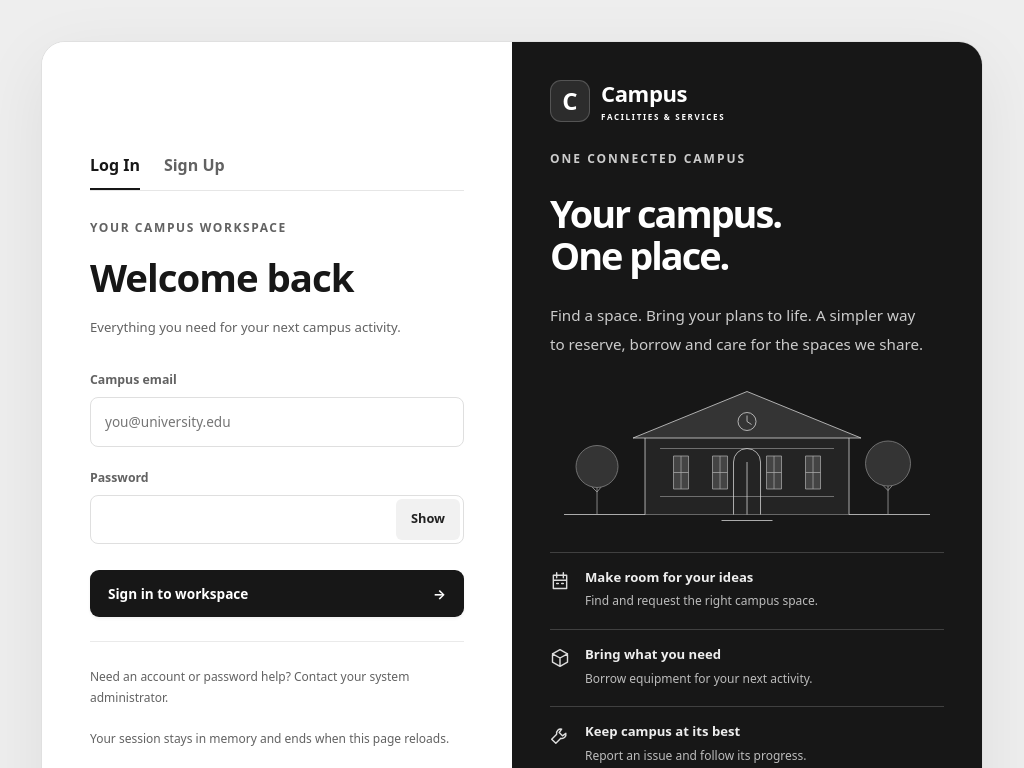
Test: reservation section switches to safe campus availability while private details stay in the list
Type "fixture@example.test" into the field labelled "Campus email" at (277, 422), box [90,397,464,446]
Type "synthetic-password" into the password field labelled "Password" at (277, 519), box [90,495,464,544]
Click the button "Sign in to workspace →" at (178, 593), box [90,570,464,617]
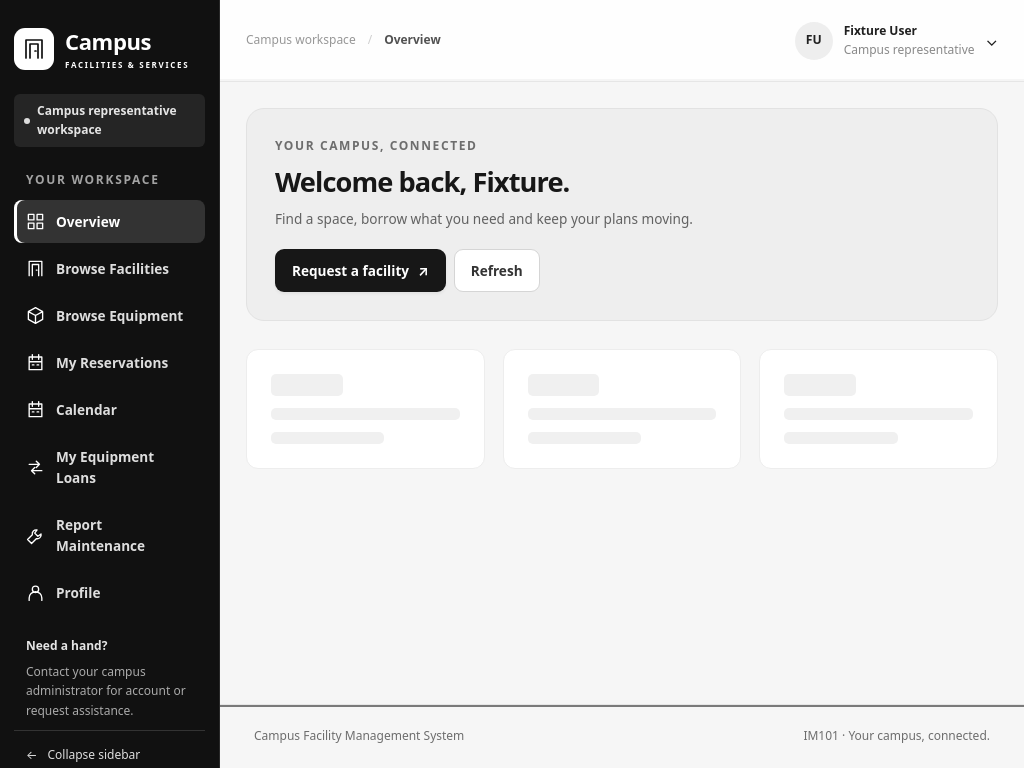
Expected: the heading "Welcome back, Fixture." is shown, [275,163,569,200]
Expected: the link "My Reservations" is shown
Click the link "My Reservations" at (97, 362), box [26,353,168,372]
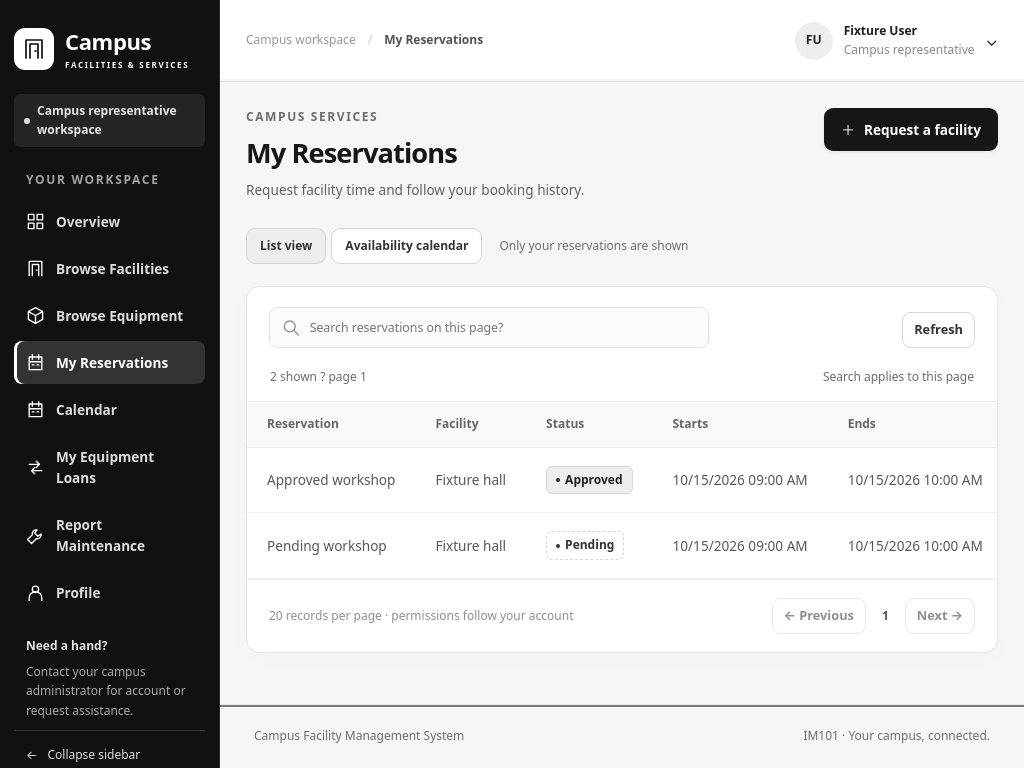
Click the button "Availability calendar" at (407, 246), box [331,228,482,264]
(page scrolled)
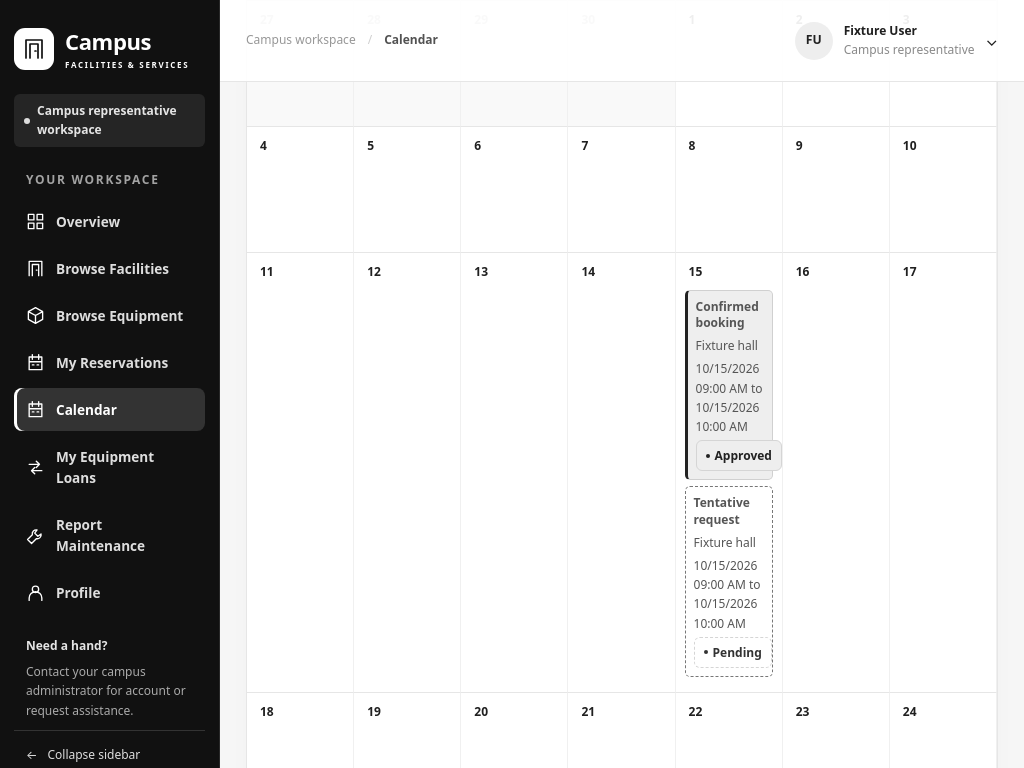
Expected: the text "Only your reservations are shown" is gone
Expected: the table is gone
Expected: the text "Pending workshop" is gone
Click the button that starts with "Confirmed booking" at (729, 385), box [685,290,773,480]
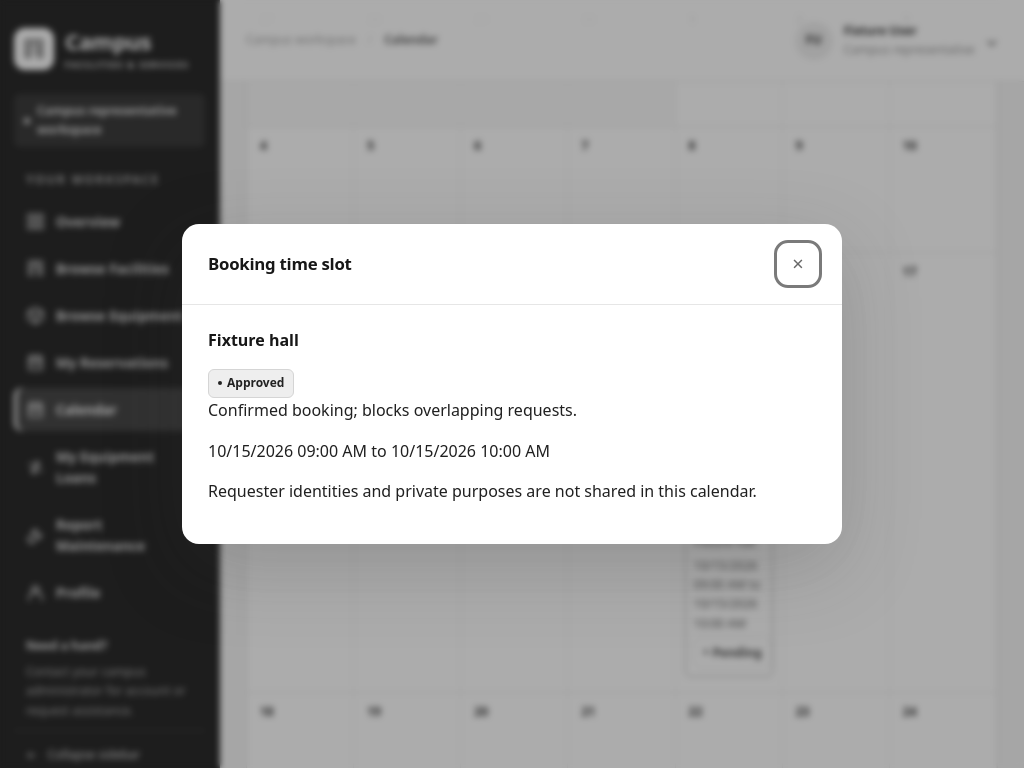
Expected: the text "Approved" is shown, [208,369,294,398]
Click the button named "Close dialog" at (798, 264), box [780,246,816,282]
(page scrolled)
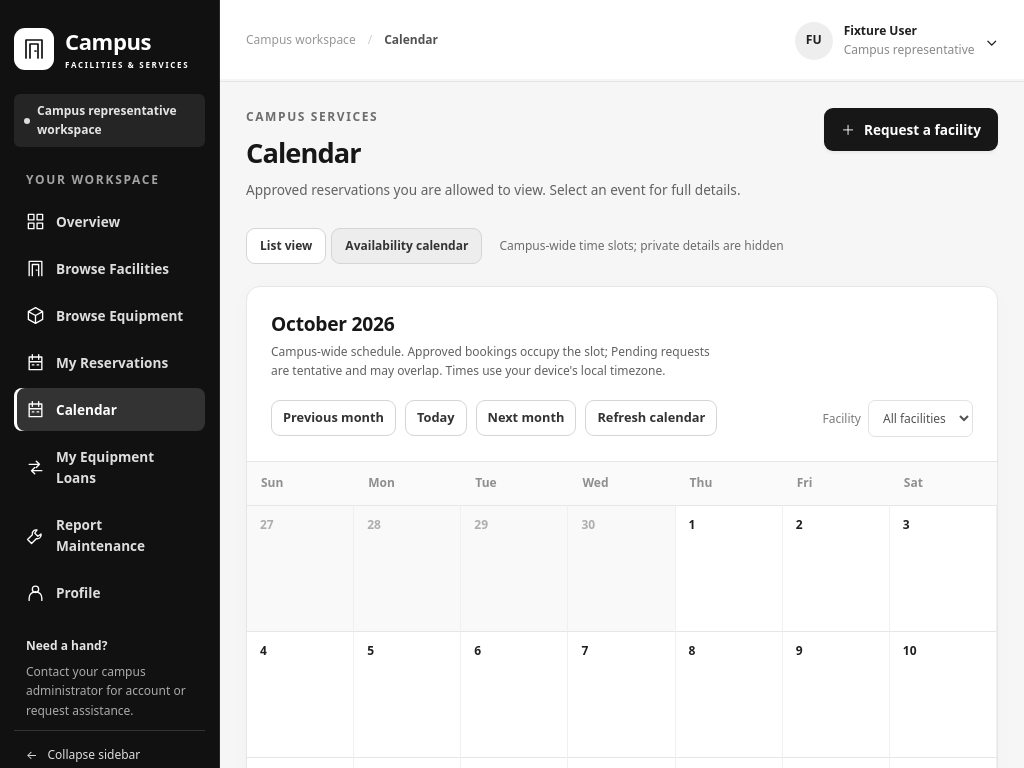
Click the button "List view" at (286, 246), box [246,228,326,264]
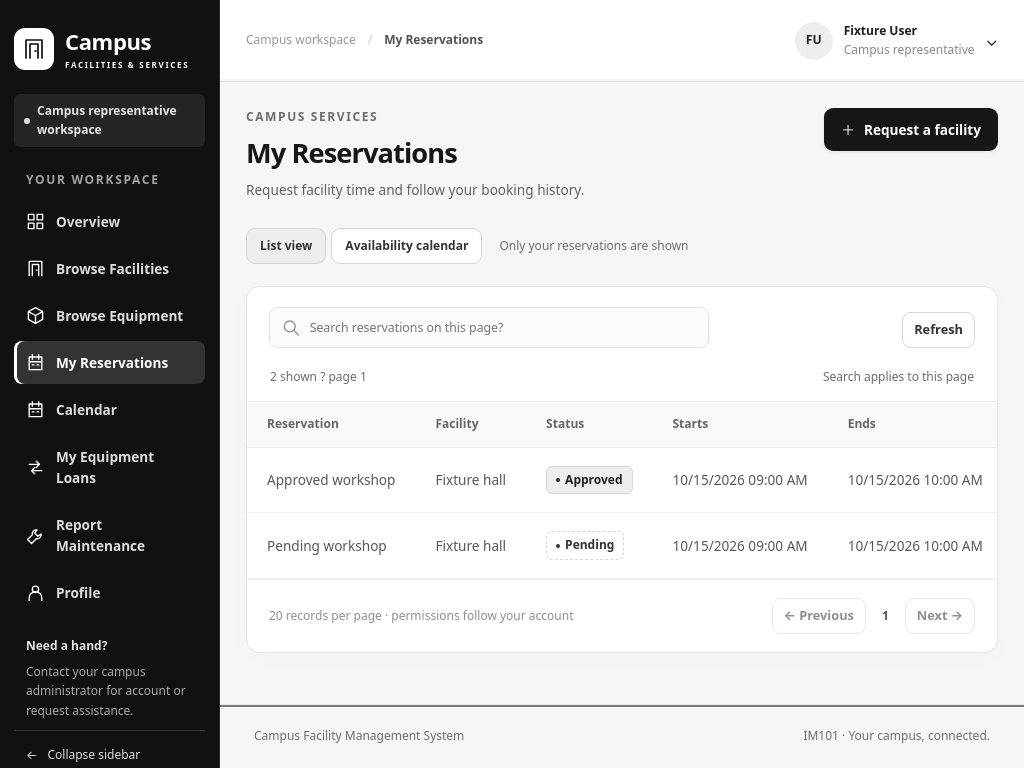
Expected: the table is shown, [247,401,997,579]
